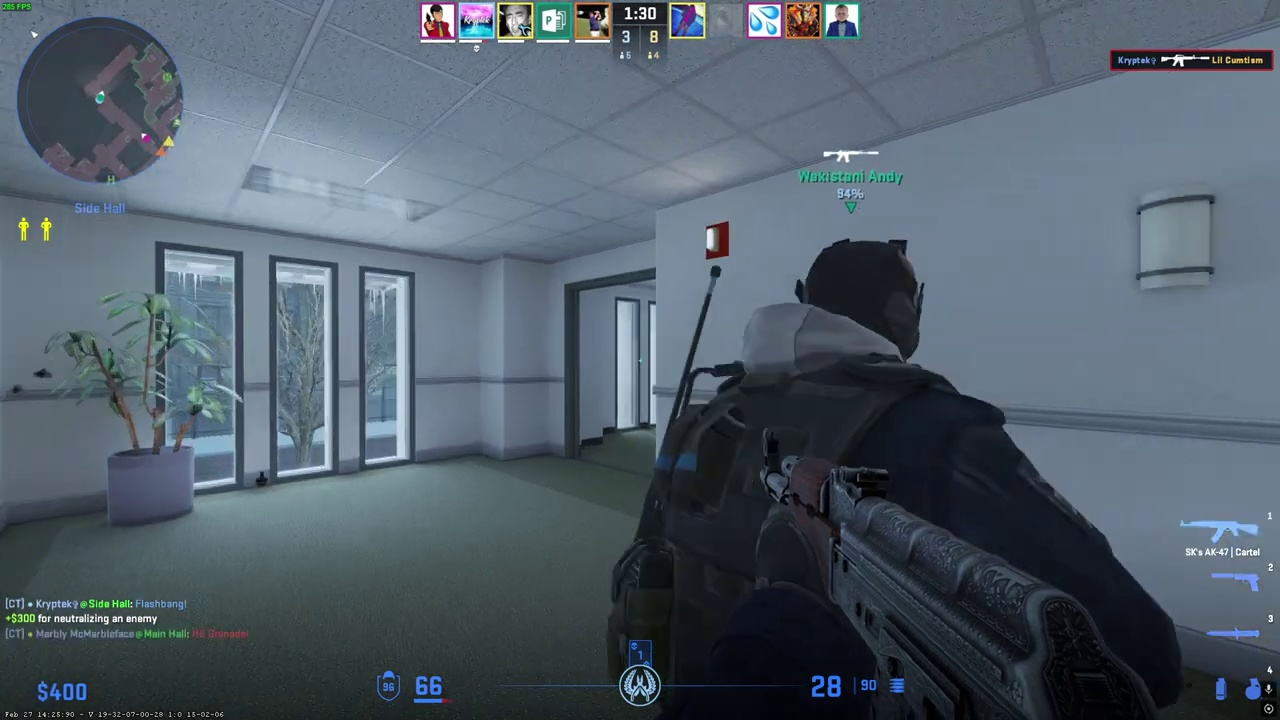CT: (641, 243, 1022, 720)
